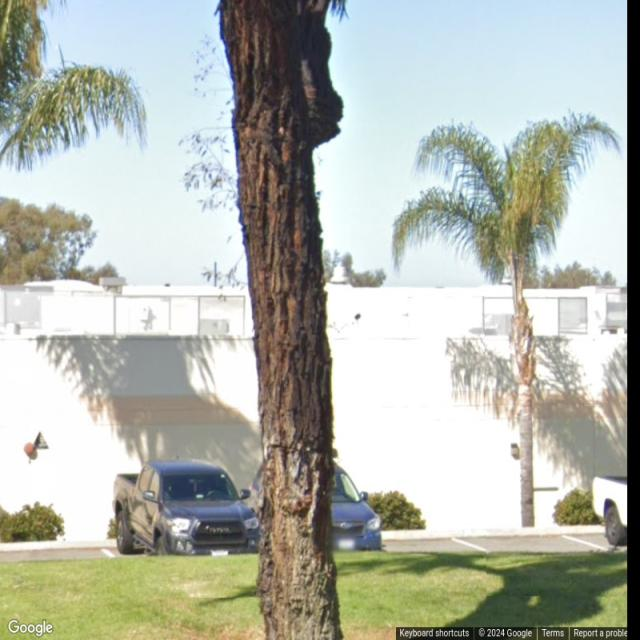House: (0, 278, 628, 529)
